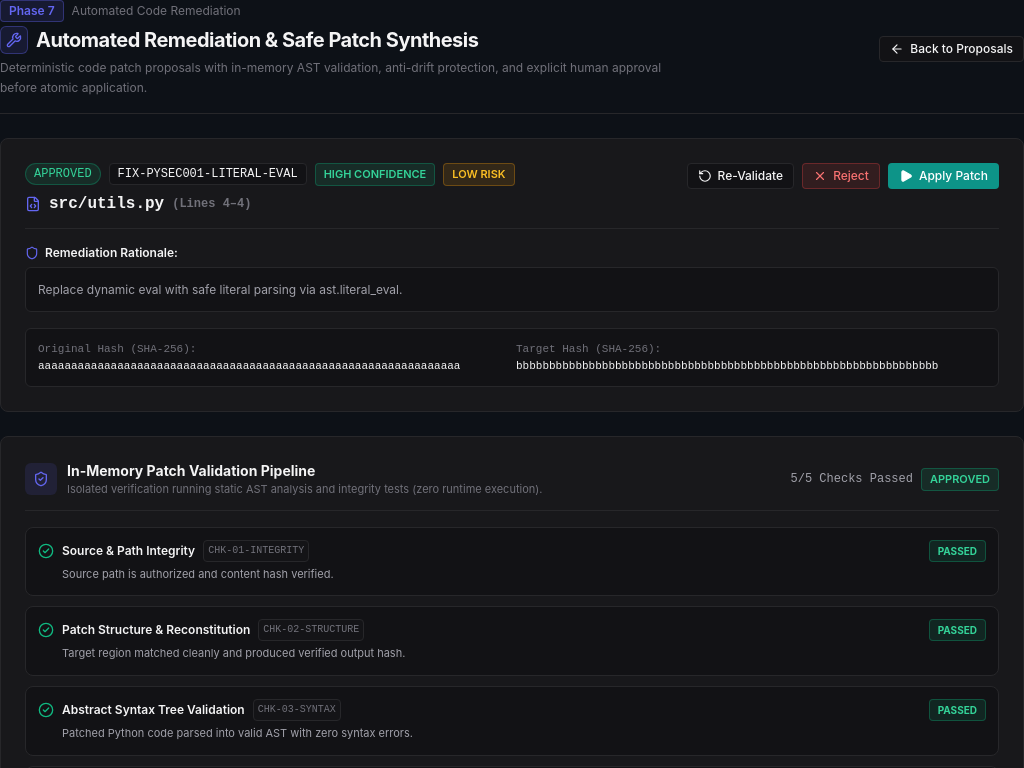
Scenario: RemediationPage Component › enables Apply Patch after explicit approval and shows confirmation modal
Click the button "Apply Patch".
click(943, 176)  # box left=888, top=163, right=999, bottom=189
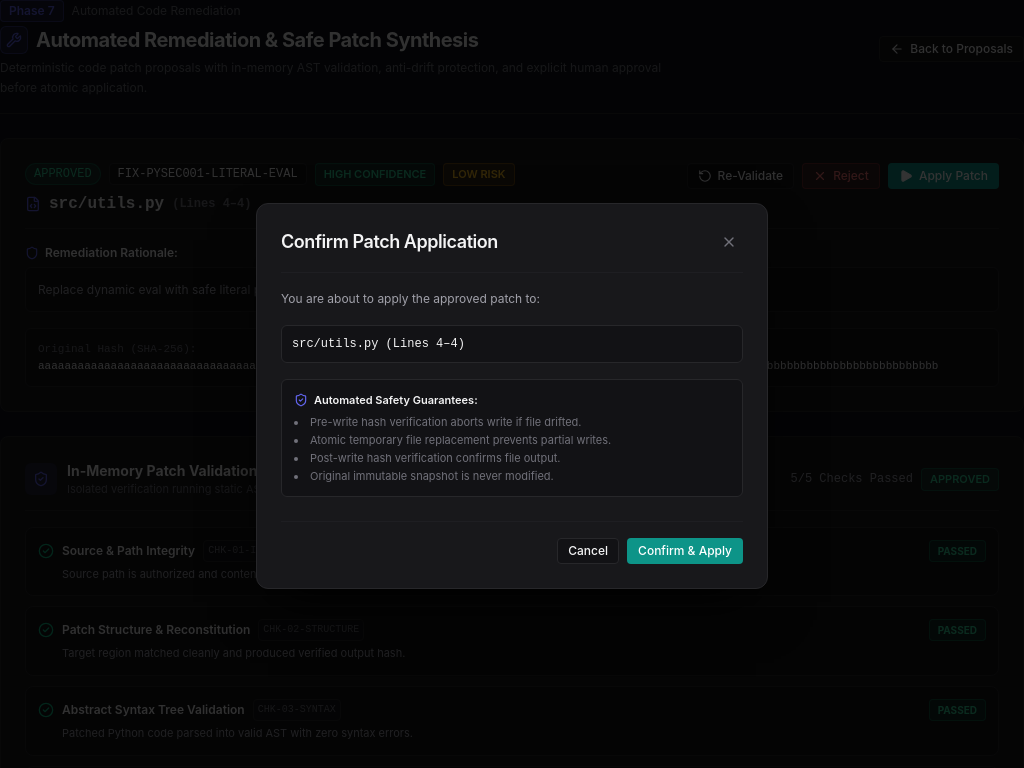
Expected: the heading "Confirm Patch Application" is shown, left=281, top=231, right=498, bottom=252
Expected: the text "Automated Safety Guarantees:" is shown, left=294, top=393, right=478, bottom=407
